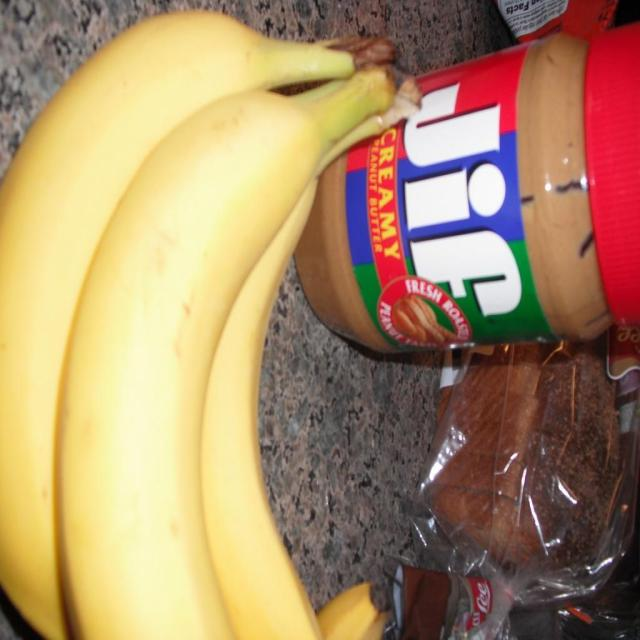banana: (0, 17, 399, 640), (55, 70, 396, 640)
